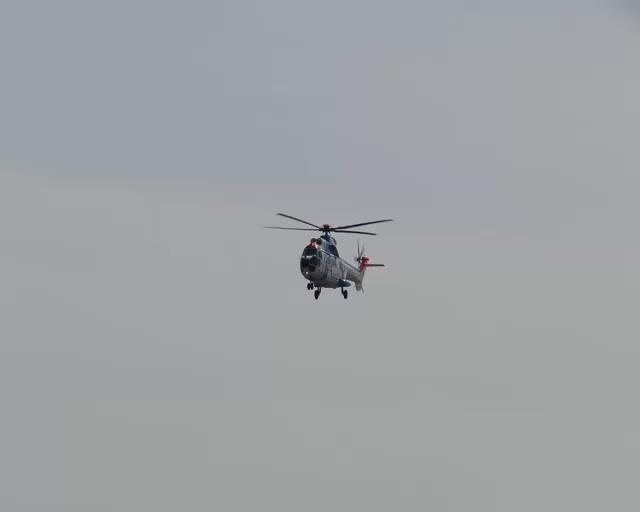HELICOPTER: (262, 212, 393, 300)
